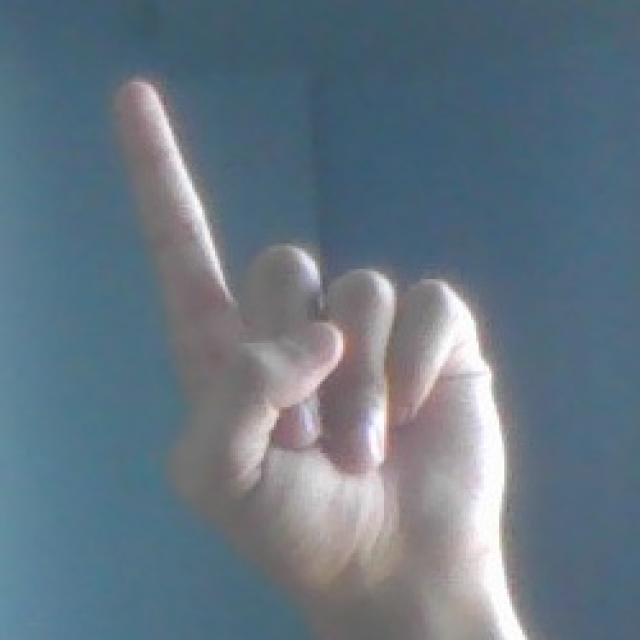Numeric-1: (116, 77, 505, 595)
